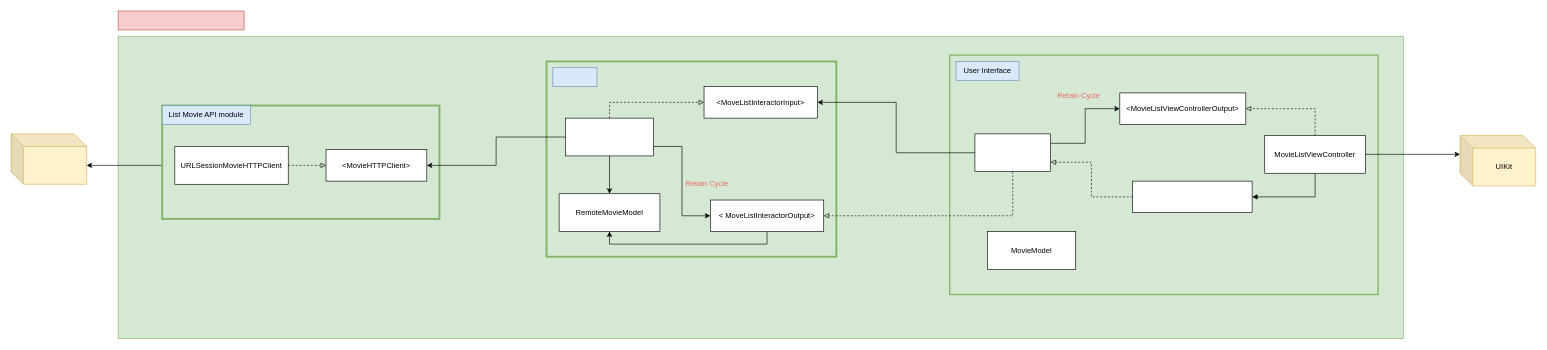
Some shapes in this 1547 by 350 pixel diagram are drawn without their labels. Here are the shapes that lost their labels. From the top down, the centre of each, then its label:
At (180,20): "Movie List Module".
At (574,77): "App Logic".
At (609,136): "MovieListInteractor".
At (1012,152): "Presenter".
At (48,158): "URL Session".
At (1192,196): "<MovieListViewControllerInput>".
